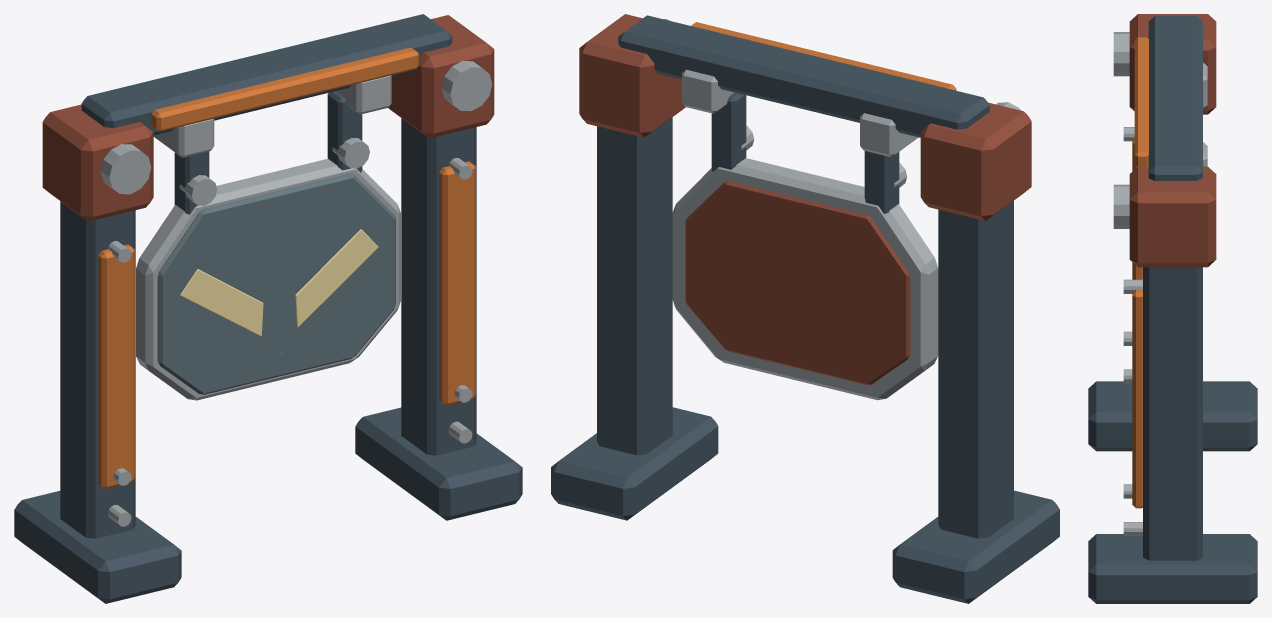
The model's file is w3c-swing-steel-target.glb.
3 renders of one model, left to right at view 1: azimuth 30°, elevation 25°; view 2: azimuth 150°, elevation 25°; view 3: azimuth 270°, elevation 25°, orthographic. The views are drawn at different scales.
Parts seen in each view (by area): view 1: Cold blue strike face, Raked visual pylon, Raked visual pylon.001, Bridge casting, Anchor shoe.001, Anchor shoe, Perimeter strike plate, Bushed shoulder, Enamel tall panel, Enamel tall panel.001, Bushed shoulder.001, Enamel bridge lintel (+10 smaller); view 2: Rear patina, Raked visual pylon.001, Raked visual pylon, Bridge casting, Perimeter strike plate, Bushed shoulder, Anchor shoe.001, Anchor shoe, Bushed shoulder.001, Suspended yoke.001, Suspended yoke, Pivot cradle (+2 smaller); view 3: Raked visual pylon.001, Anchor shoe.001, Bridge casting, Bushed shoulder.001, Anchor shoe, Enamel tall panel.001, Bushed shoulder, Enamel bridge lintel, Bright pivot cap, Bright pivot cap.001, Cast pylon plug.003, Enamel tall panel (+1 smaller).
Part boxes in pixels (x1,y1,x2,y2): Cold blue strike face: [157, 173, 395, 394]; Raked visual pylon: [60, 201, 135, 538]; Raked visual pylon.001: [401, 118, 476, 455]; Bridge casting: [81, 14, 452, 135]; Anchor shoe.001: [355, 407, 522, 520]; Anchor shoe: [14, 491, 181, 603]; Perimeter strike plate: [136, 159, 400, 400]; Bushed shoulder: [42, 104, 153, 221]; Enamel tall panel: [98, 244, 134, 488]; Enamel tall panel.001: [439, 161, 475, 405]; Bushed shoulder.001: [388, 15, 494, 138]; Enamel bridge lintel: [151, 47, 418, 131]; Rear patina: [685, 181, 910, 384]; Raked visual pylon.001: [597, 117, 672, 455]; Raked visual pylon: [938, 201, 1013, 538]; Bridge casting: [618, 15, 989, 137]; Perimeter strike plate: [672, 158, 938, 400]; Bushed shoulder: [920, 102, 1031, 220]; Anchor shoe.001: [551, 407, 718, 520]; Anchor shoe: [892, 490, 1059, 603]; Bushed shoulder.001: [579, 14, 685, 137]; Suspended yoke.001: [711, 92, 746, 171]; Suspended yoke: [864, 151, 899, 213]; Pivot cradle: [860, 113, 918, 157]; Raked visual pylon.001: [1143, 267, 1202, 560]; Anchor shoe.001: [1088, 534, 1257, 603]; Bridge casting: [1148, 16, 1202, 180]; Bushed shoulder.001: [1129, 166, 1216, 267]; Anchor shoe: [1088, 381, 1257, 451]; Enamel tall panel.001: [1132, 289, 1142, 508]; Bushed shoulder: [1129, 14, 1216, 114]; Enamel bridge lintel: [1134, 37, 1148, 167]; Bright pivot cap: [1113, 32, 1129, 76]; Bright pivot cap.001: [1113, 184, 1129, 228]; Cast pylon plug.003: [1123, 522, 1142, 535]; Enamel tall panel: [1132, 138, 1142, 279].
Size of the model in its own units: 2.39 by 2.47 by 0.9.
